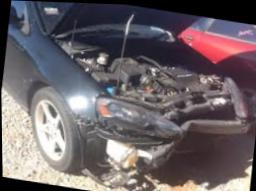Bonnet: (51, 36, 250, 104)
Bumper: (77, 79, 255, 187)
Light: (93, 95, 190, 138)
